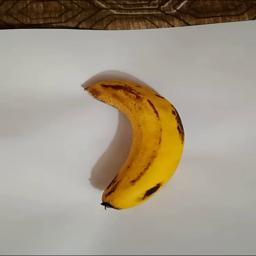Banana Semifresh: (77, 76, 186, 213)
